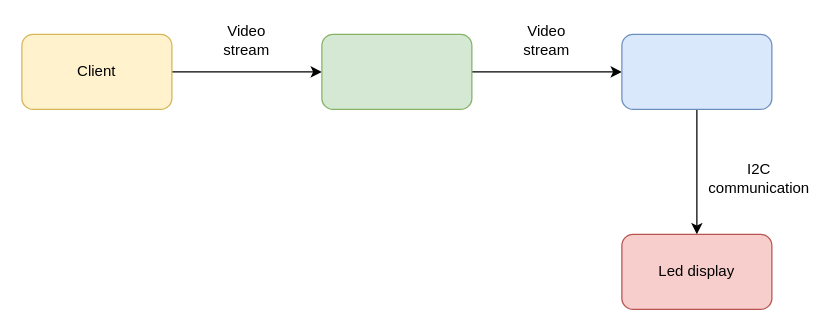
Some shapes in this 831 by 331 pixel diagram are drawn without their labels. Here are the shapes that lost their labels. From the top down, the centre of each, then its label:
At (x=396, y=71): "Server".
At (x=696, y=71): "Arduino".
